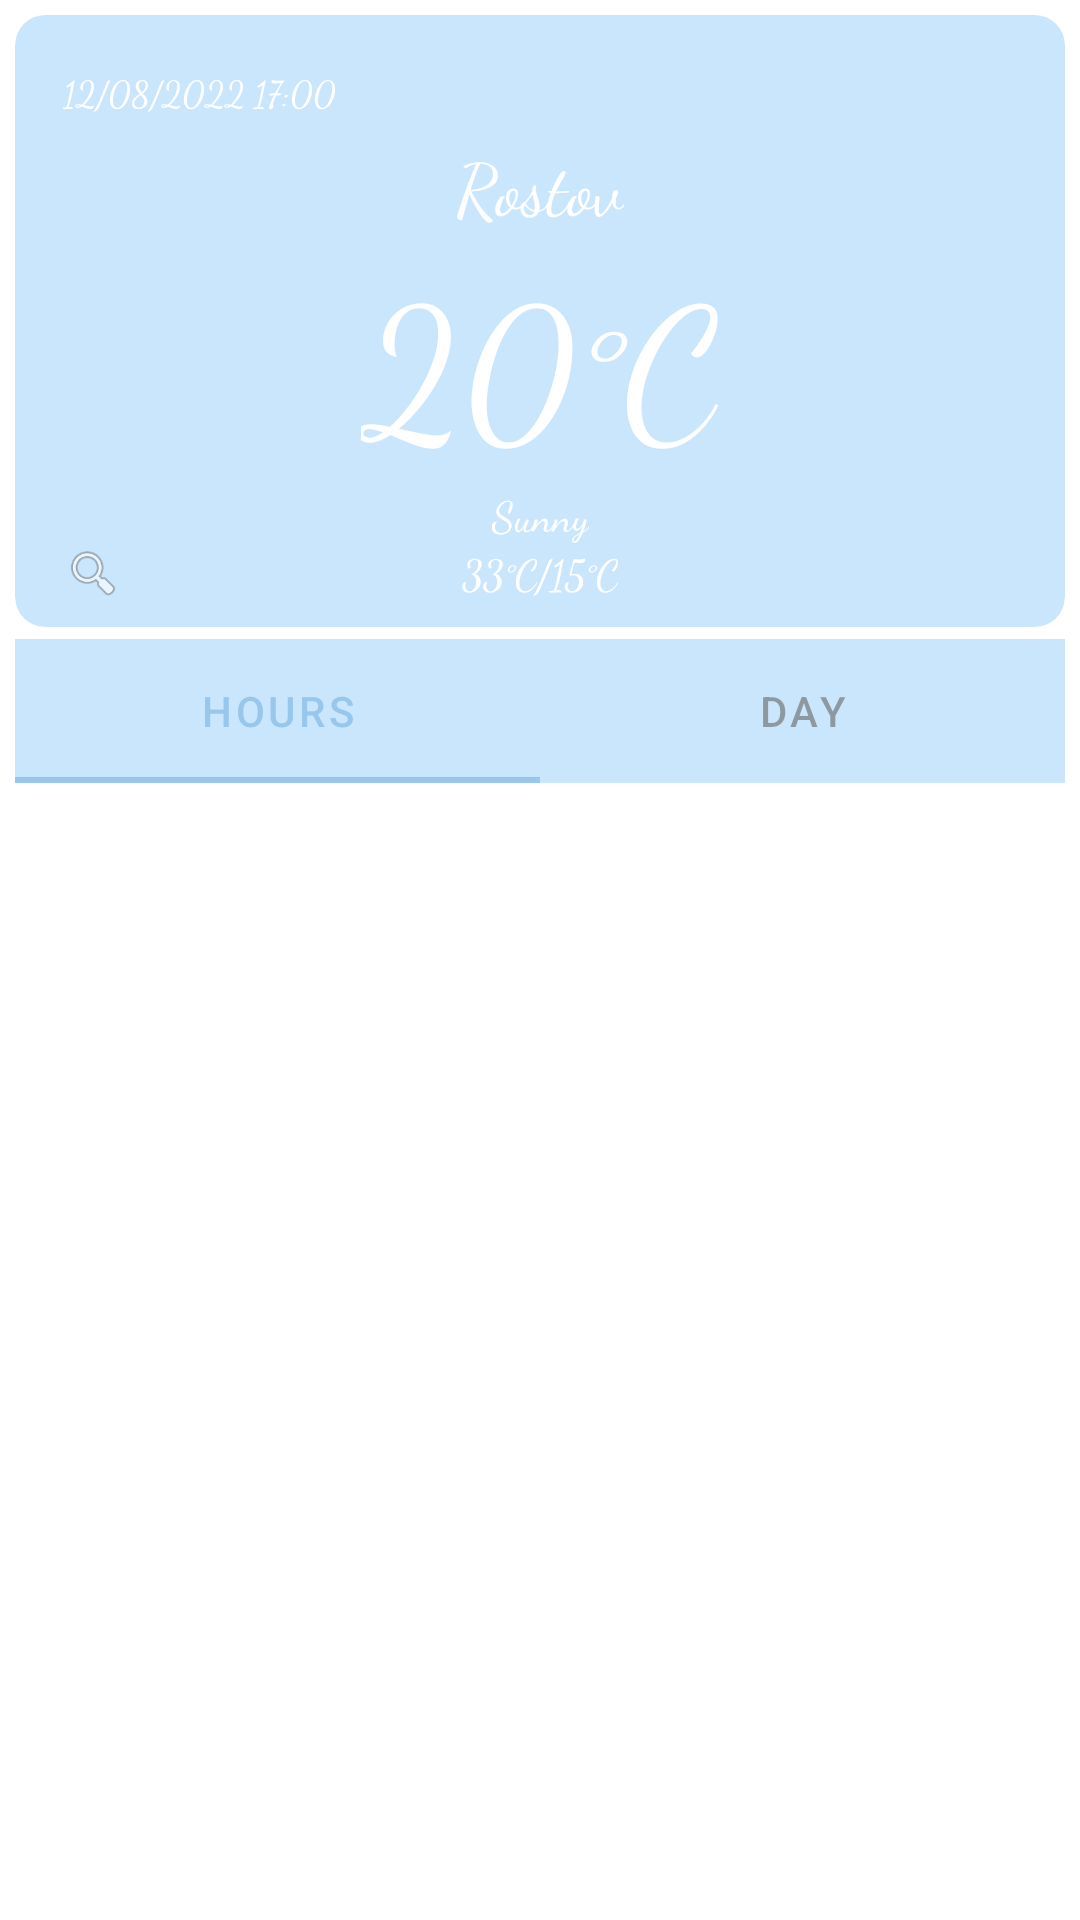

Point at icon controls on the screen. Image size 1080×1920, points as point (x, y).
search: point (93, 573)
